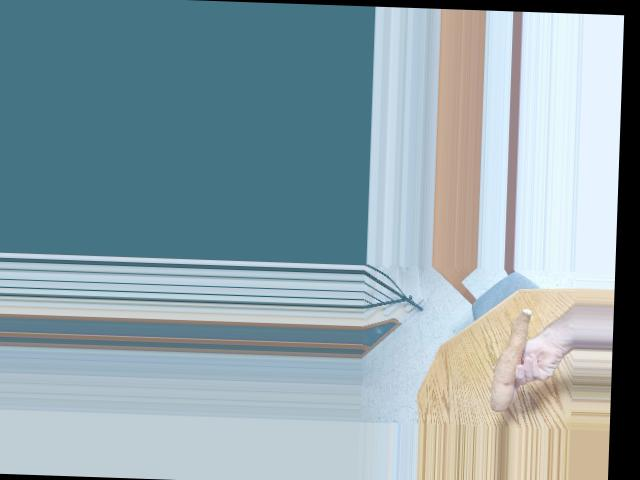sweet_potato: (487, 306, 536, 409)
